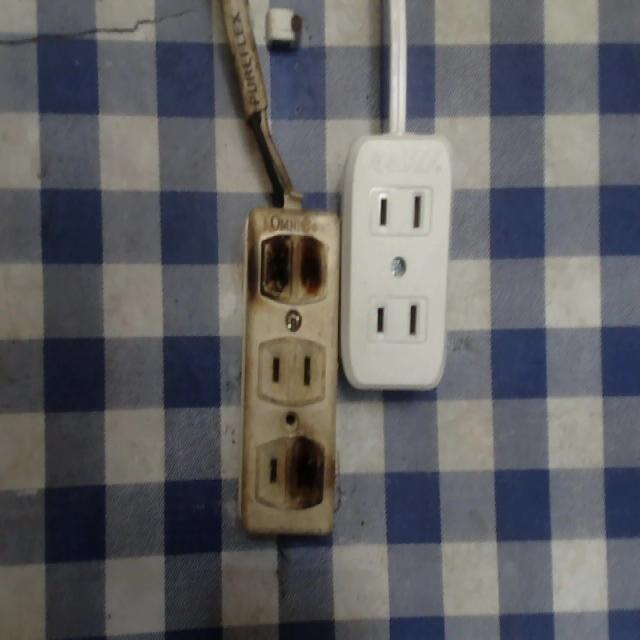-: (249, 225, 334, 308), (286, 432, 332, 516)
